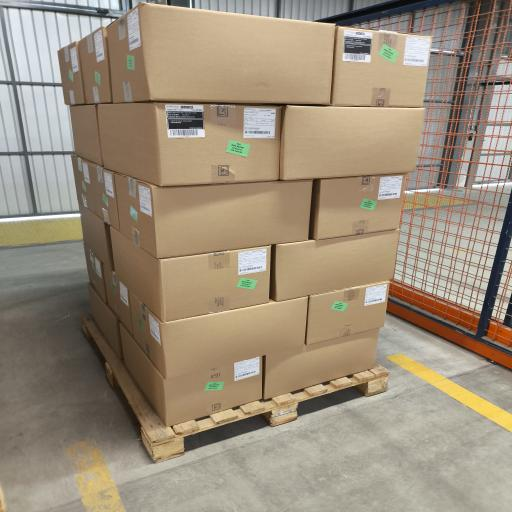pallet: (81, 316, 388, 462)
